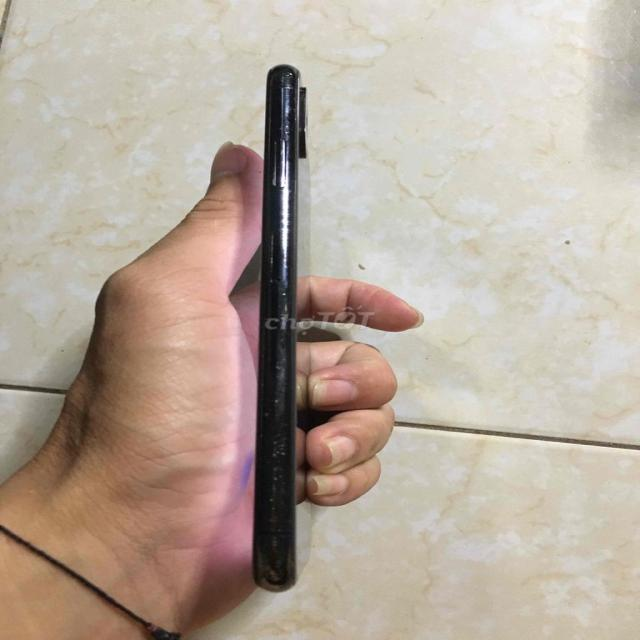scratch: (278, 75, 295, 151), (262, 428, 292, 463), (268, 279, 292, 310), (266, 468, 290, 494), (264, 542, 290, 560), (262, 499, 288, 516), (269, 391, 283, 412), (272, 525, 283, 541)
